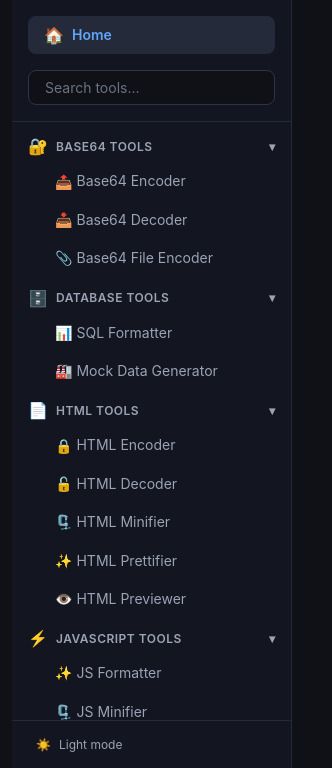
Sidebar › search filtering › filters visible tools when typing in the search bar
// Type a query that matches only a subset of tools
Type "uuid" into the search field with placeholder "Search tools…".
click(152, 88); type("uuid")  # box [28,70,275,105]
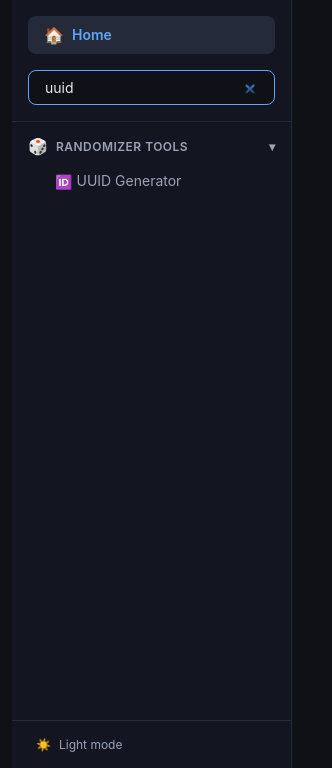
Expected: the link "🆔 UUID Generator" is shown, [55,172,181,190]
Expected: the link "Base64 Encoder" is gone
Expected: the link "Base64 Decoder" is gone
